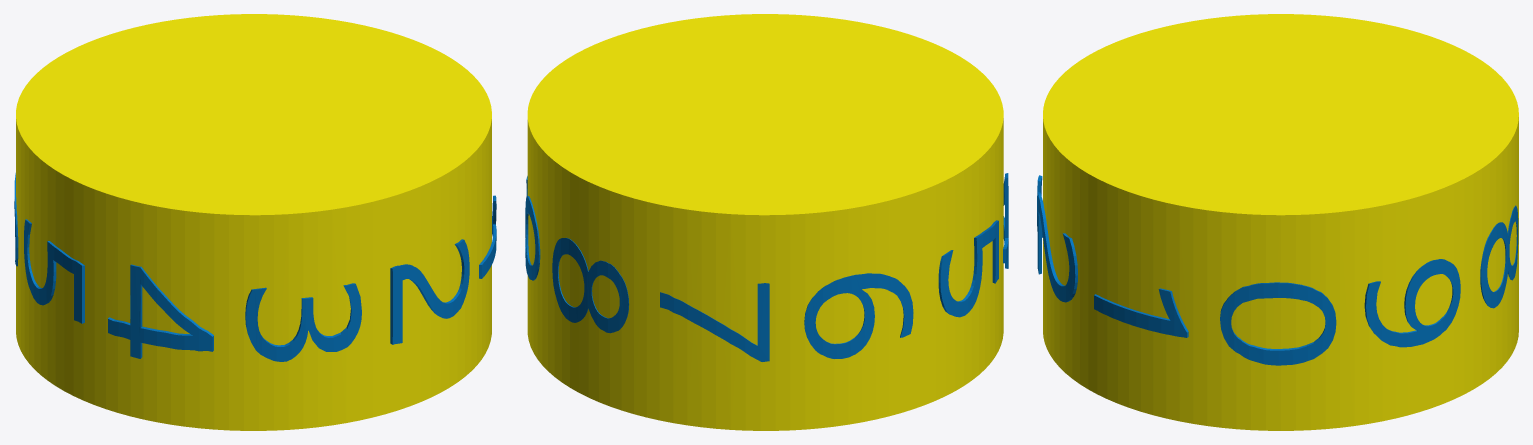
Rendered from numberDial.obj.
3 views of the same model, side by side, from view 1: azimuth 30°, elevation 25°; view 2: azimuth 150°, elevation 25°; view 3: azimuth 270°, elevation 25° (orthographic).
Parts seen in each view (by area): view 1: Object.1, Object.9, Object.5, Object.2, Object.8, Object.10; view 2: Object.1, Object.7, Object.6, Object.11, Object.8, Object.3, Object.9; view 3: Object.1, Object.4, Object.3, Object.10, Object.2, Object.6.
Boxes of the visible parts, box(x1,y1,x2,y2) form: Object.1: box(16, 14, 491, 430); Object.9: box(108, 264, 213, 358); Object.5: box(245, 283, 361, 361); Object.2: box(390, 239, 469, 344); Object.8: box(24, 219, 84, 323); Object.10: box(479, 195, 496, 278); Object.1: box(527, 14, 1003, 430); Object.7: box(804, 273, 913, 358); Object.6: box(552, 237, 629, 333); Object.11: box(660, 283, 769, 361); Object.8: box(938, 220, 998, 317); Object.3: box(525, 176, 540, 280); Object.9: box(1003, 173, 1008, 268); Object.1: box(1043, 14, 1518, 430); Object.4: box(1220, 282, 1336, 365); Object.3: box(1364, 259, 1460, 347); Object.10: box(1094, 288, 1188, 337); Object.2: box(1037, 192, 1077, 302); Object.6: box(1480, 205, 1518, 308).
Size of the model in its own units: 40.04 by 19.75 by 39.99.
